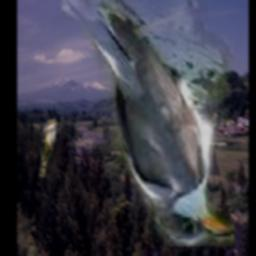Cuckoo: (62, 0, 235, 247), (39, 119, 57, 178)
